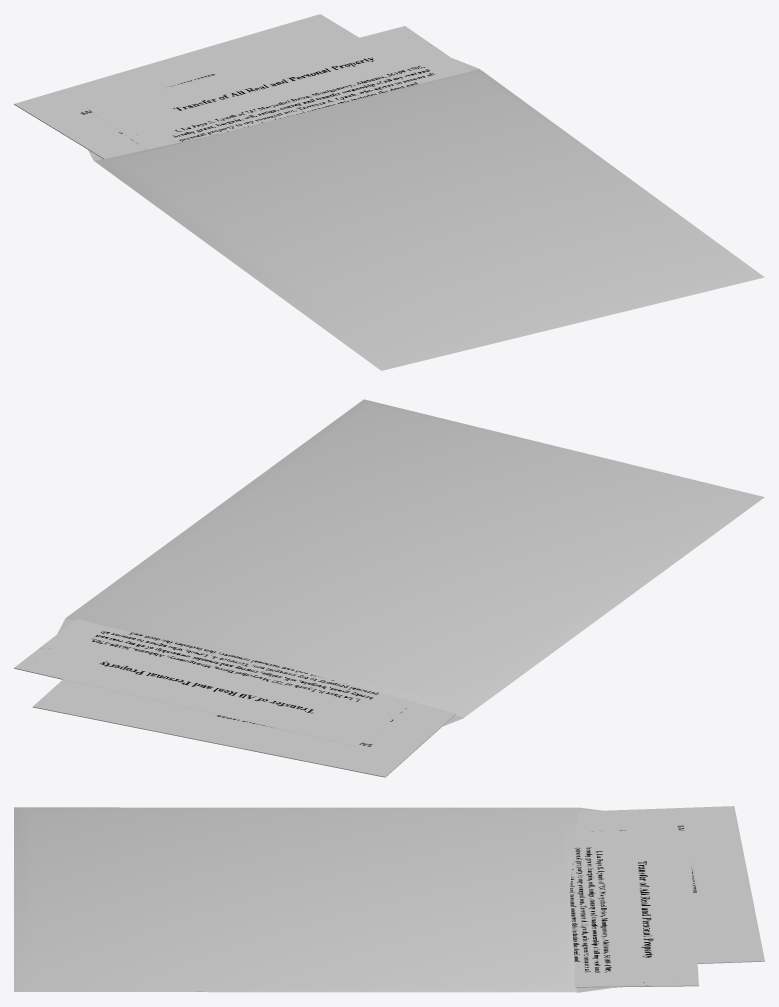
The model's file is Envelop_Open.fbx.
3 views of the same model, one above another, from view 1: azimuth 30°, elevation 25°; view 2: azimuth 150°, elevation 25°; view 3: azimuth 270°, elevation 25° (orthographic). The views are drawn at different scales.
Parts seen in each view (by area): view 1: Envelop_Open; view 2: Envelop_Open; view 3: Envelop_Open.
Boxes of the visible parts, x1=… form: Envelop_Open: x1=14, y1=14, x2=764, y2=370; Envelop_Open: x1=14, y1=399, x2=764, y2=777; Envelop_Open: x1=14, y1=806, x2=764, y2=992.
Bounding box in the file's own units: 25.08 × 0.5653 × 42.87.
